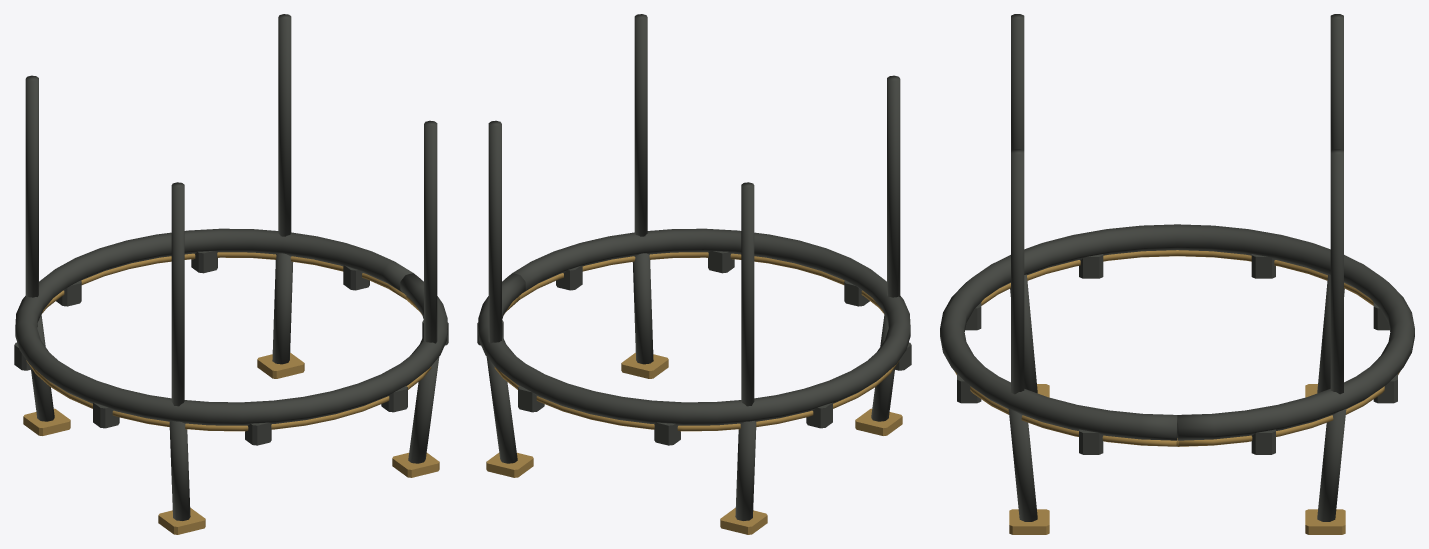
The model's file is b2_seal_ring.glb.
The picture shows the model from 3 angles, left to right: view 1: azimuth 30°, elevation 25°; view 2: azimuth 150°, elevation 25°; view 3: azimuth 270°, elevation 25°; orthographic projection. The views are drawn at different scales.
Parts seen in each view (by area): view 1: b2_seal_ring; view 2: b2_seal_ring; view 3: b2_seal_ring.
Part boxes in pixels (left/top/right/bottom): b2_seal_ring: left=14, top=14, right=448, bottom=534; b2_seal_ring: left=477, top=14, right=911, bottom=534; b2_seal_ring: left=940, top=14, right=1414, bottom=534.
Bounding box in the file's own units: 5.9 × 5.21 × 5.9.
